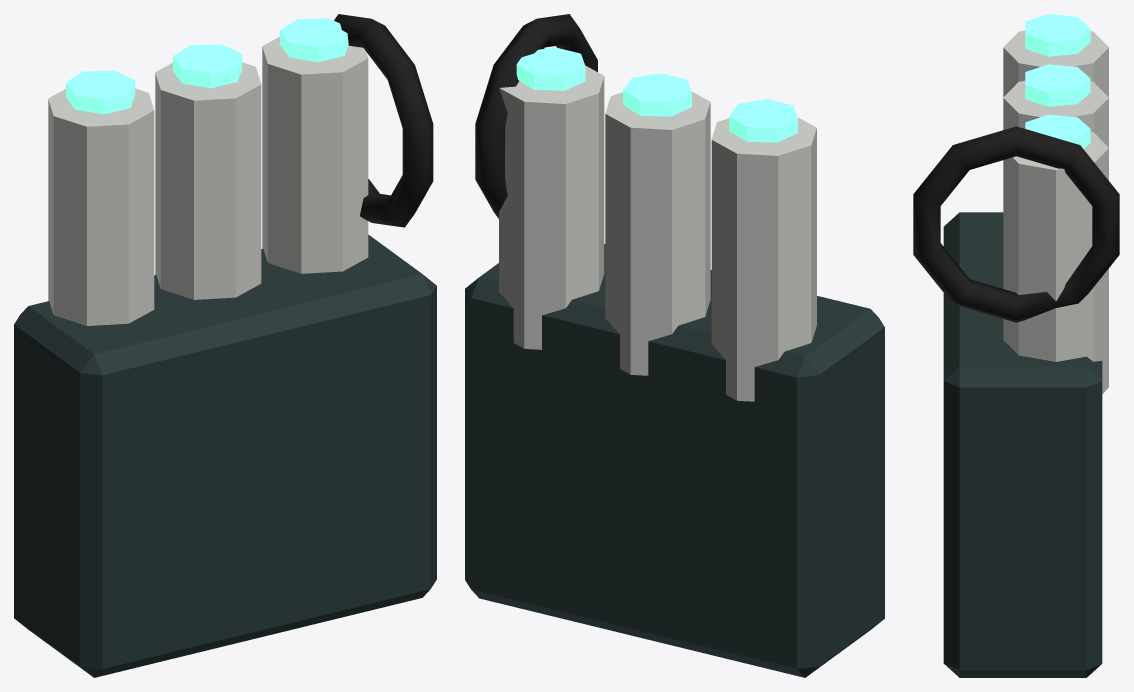
Rendered from npc_filter_pack.glb.
3 views of the same model, side by side, from view 1: azimuth 30°, elevation 25°; view 2: azimuth 150°, elevation 25°; view 3: azimuth 270°, elevation 25° (orthographic). The views are drawn at different scales.
Parts seen in each view (by area): view 1: part.npc_filter_pack; view 2: part.npc_filter_pack; view 3: part.npc_filter_pack.
Boxes of the visible parts, x1,y1,x2,y2 form: part.npc_filter_pack: [14, 14, 436, 677]; part.npc_filter_pack: [465, 14, 884, 677]; part.npc_filter_pack: [913, 14, 1119, 677].
Bounding box in the file's own units: 0.3 × 0.452 × 0.1559.
